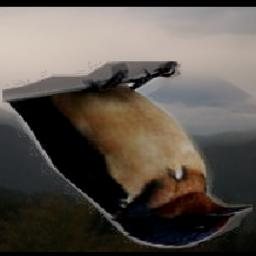Swallow: (4, 62, 254, 249)
